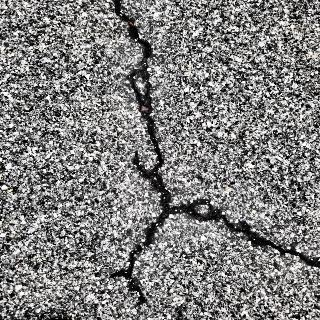crack: (107, 0, 182, 306), (172, 193, 320, 266)
